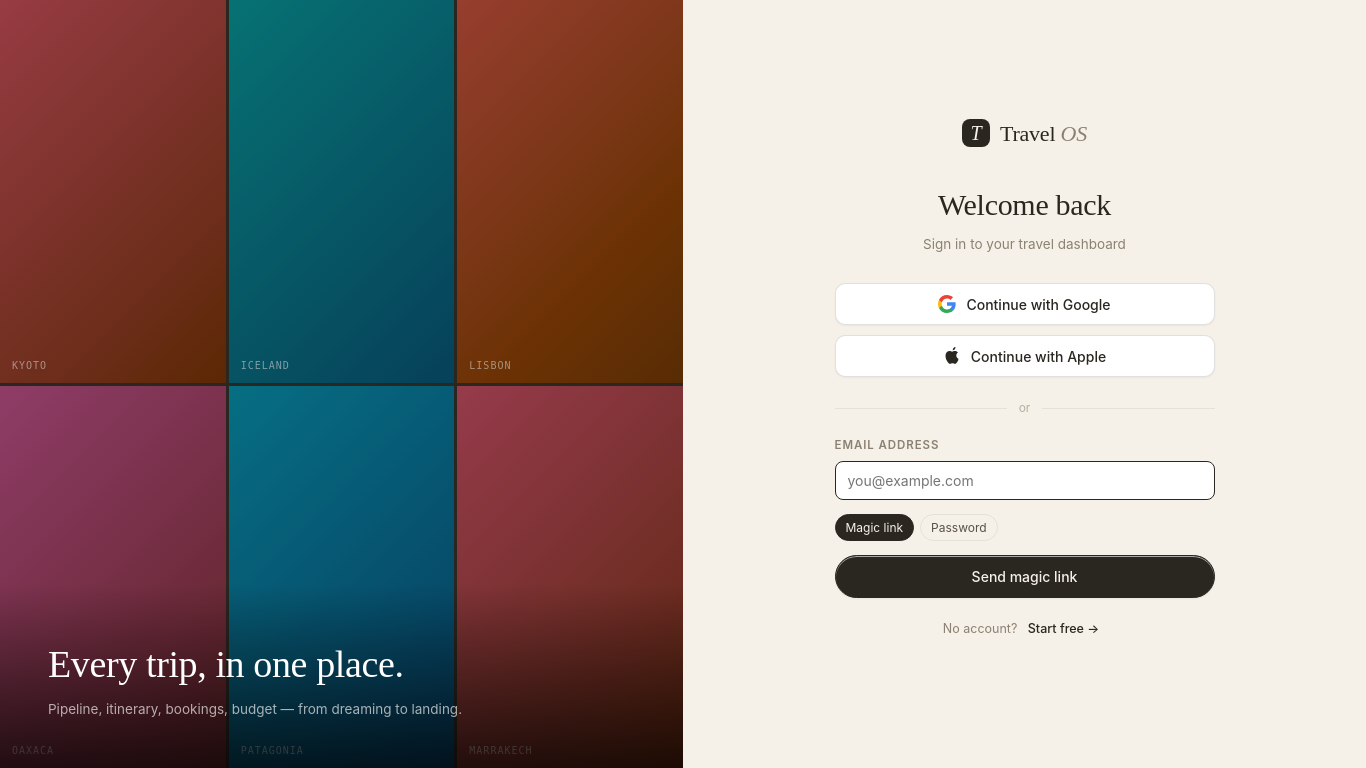
Test case: Login › shows error alert when sign-in fails
Type "user@example.com" into the field labelled "Email address".
click(1024, 480); type("user@example.com")  # box [834,460,1214,500]
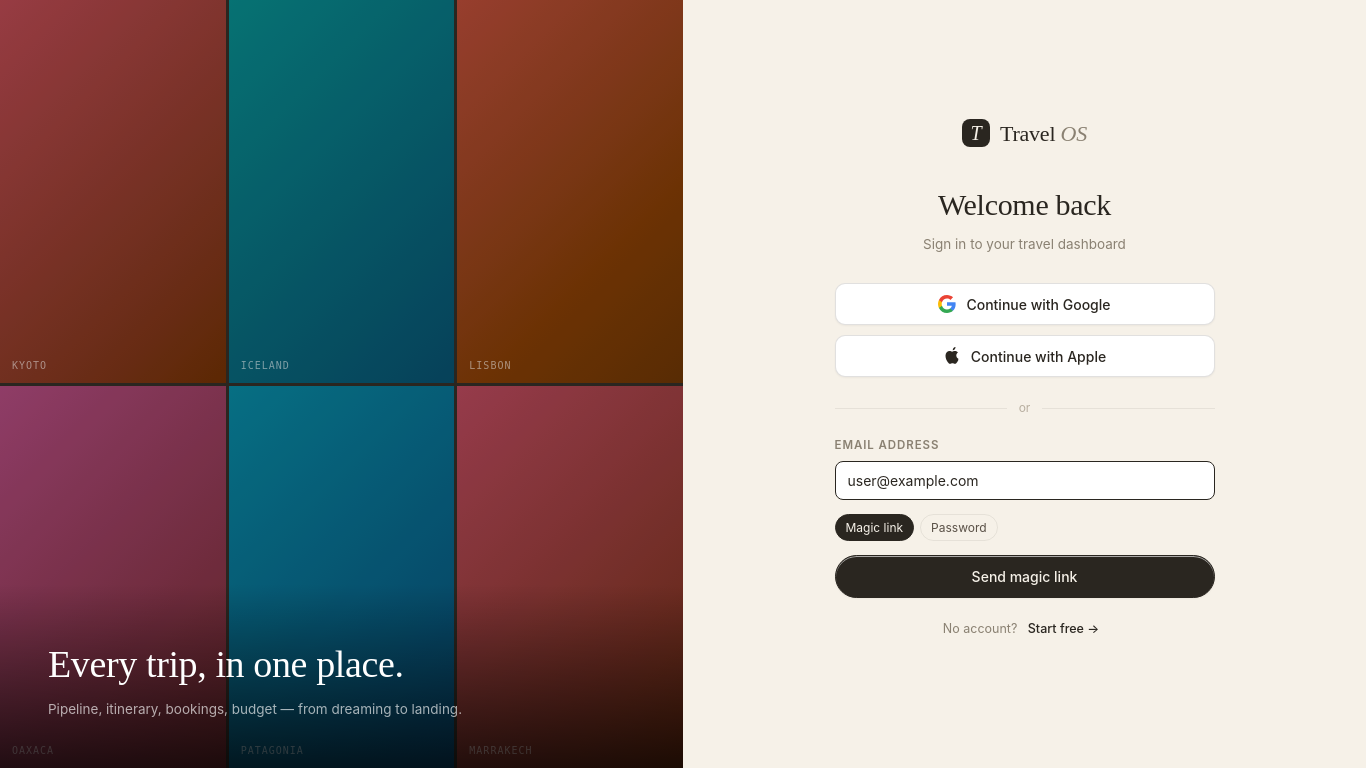
Click the button "Send magic link".
click(1024, 576)  # box [834,554,1214,598]
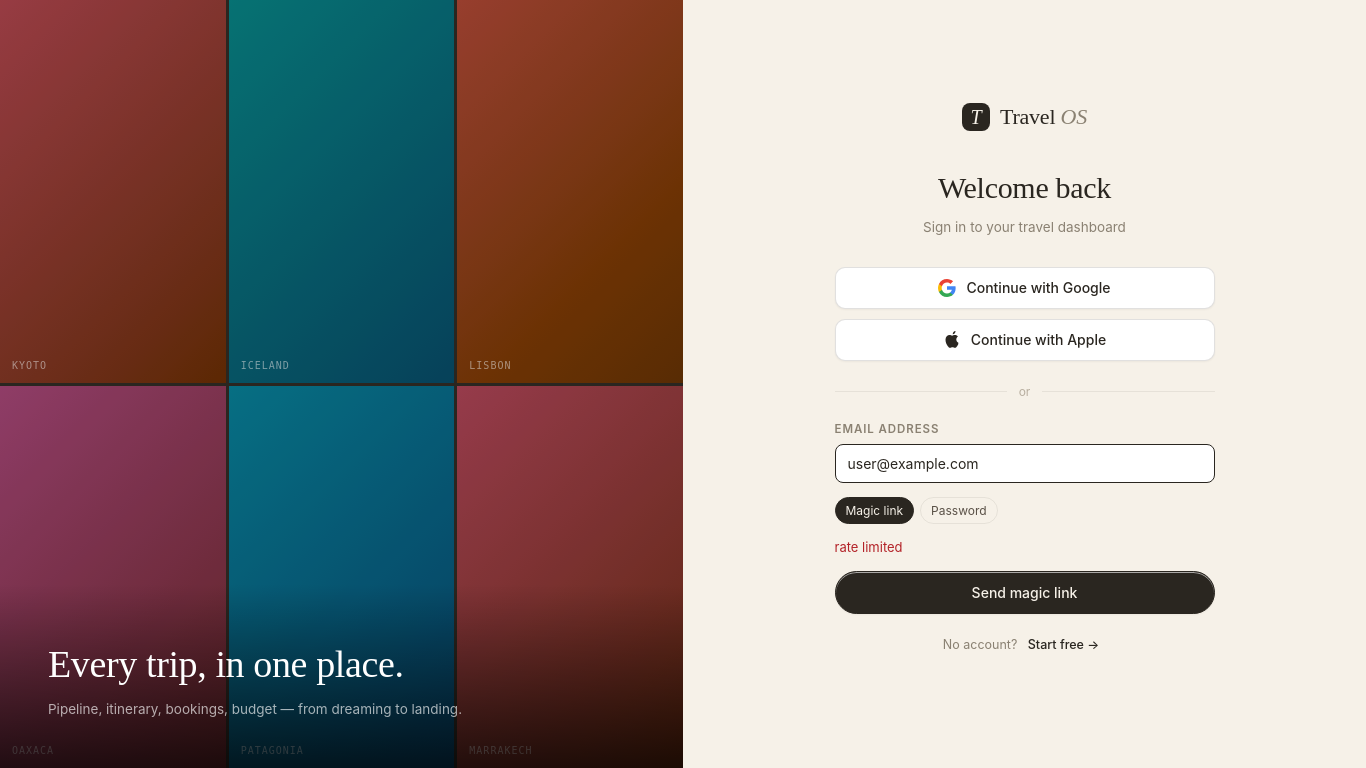
Result: the message reads "rate limited" at [834,539,903,555]
